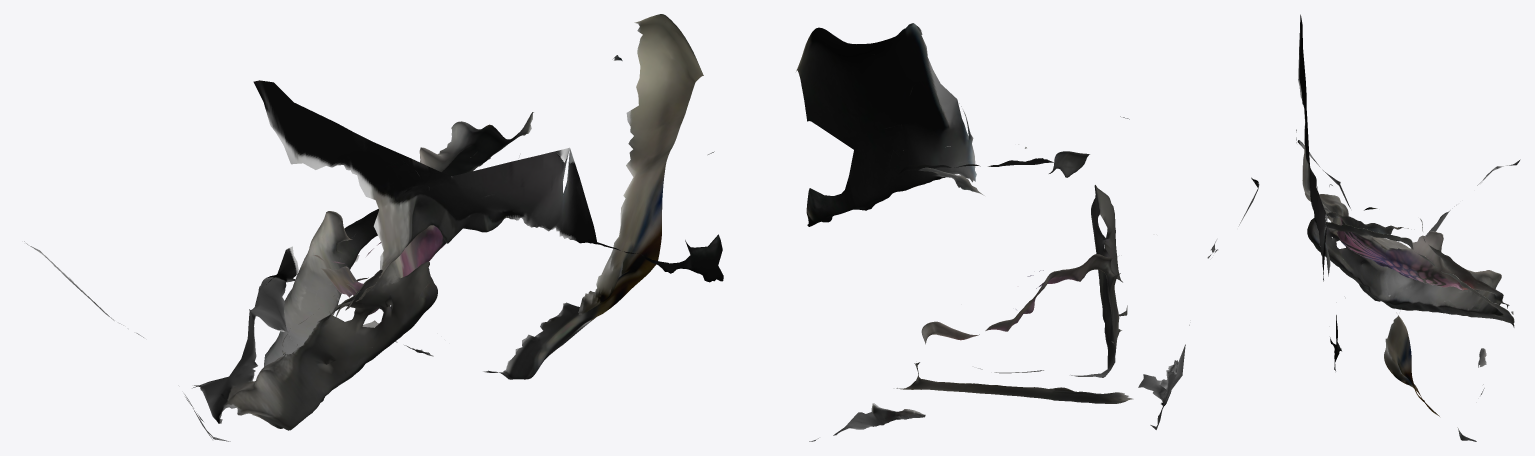
3 views of the same model, side by side, from view 1: azimuth 30°, elevation 25°; view 2: azimuth 150°, elevation 25°; view 3: azimuth 270°, elevation 25° (orthographic). The views are drawn at different scales.
Size of the model in its own units: 1.26 by 1.06 by 0.7087.
Materials: 1 (1 with a texture image).
